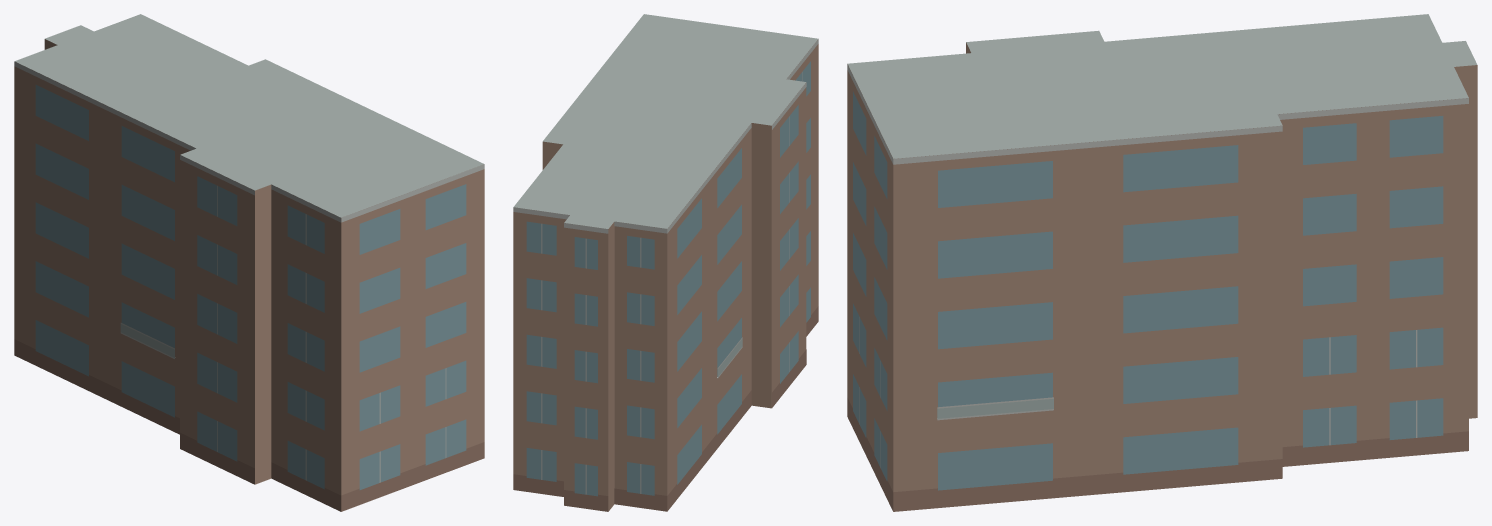
File: survey-upis-32740417.glb
The picture shows the model from 3 angles, left to right: view 1: azimuth 30°, elevation 25°; view 2: azimuth 150°, elevation 25°; view 3: azimuth 270°, elevation 25°; orthographic projection. The views are drawn at different scales.
Visible parts, largest first — view 1: survey-upis-32740417.tmp; view 2: survey-upis-32740417.tmp; view 3: survey-upis-32740417.tmp.
Part boxes in pixels (bbox=[...]): survey-upis-32740417.tmp: bbox=[14, 14, 484, 511]; survey-upis-32740417.tmp: bbox=[513, 14, 818, 511]; survey-upis-32740417.tmp: bbox=[847, 14, 1477, 511].
Size of the model in its own units: 12.85 by 14.6 by 23.63.
